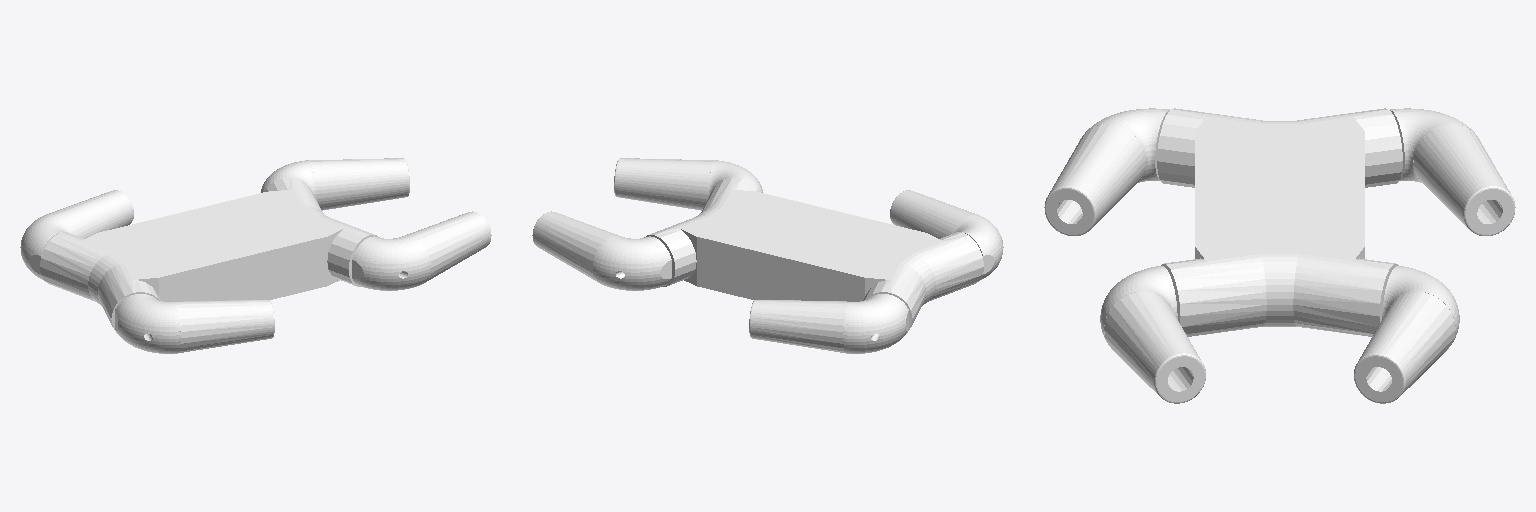
robot.urdf — 18_degree:
<?xml version="1.0" encoding="utf-8"?>
<!-- This URDF was automatically created by SolidWorks to URDF Exporter! Originally created by [author] ([email redacted]) 
     Commit Version: 1.5.1-0-g916b5db  Build Version: 1.5.7152.31018
     For more information, please see http://wiki.ros.org/sw_urdf_exporter -->
<robot
  name="18_degree">
  <link
    name="base_link">
    <inertial>
      <origin
        xyz="0 5.8328E-08 5.2042E-18"
        rpy="0 0 0" />
      <mass
        value="2.942" />
      <inertia
        ixx="0.0105036"
        ixy="9.3306E-19"
        ixz="-1.0078E-10"
        iyy="0.0439957"
        iyz="-1.0944E-17"
        izz="0.0518693" />
    </inertial>
    <visual>
      <origin
        xyz="0 0 0"
        rpy="0 0 0" />
      <geometry>
        <mesh
          filename="package://18_degree/meshes/base_link.STL" />
      </geometry>
      <material
        name="">
        <color
          rgba="1 1 1 1" />
      </material>
    </visual>
    <collision>
      <origin
        xyz="0 0 0"
        rpy="0 0 0" />
      <geometry>
        <mesh
          filename="package://18_degree/meshes/base_link.STL" />
      </geometry>
    </collision>
  </link>
  <link
    name="left_front_link">
    <inertial>
      <origin
        xyz="-1.0036E-07 0.056833 -0.03601"
        rpy="0 0 0" />
      <mass
        value="0.095" />
      <inertia
        ixx="0.0002672"
        ixy="7.2573E-10"
        ixz="7.3329E-10"
        iyy="0.0000540"
        iyz="2.33E-05"
        izz="0.0002642" />
    </inertial>
    <visual>
      <origin
        xyz="0 0 0"
        rpy="0 0 0" />
      <geometry>
        <mesh
          filename="package://18_degree/meshes/left_front_link.STL" />
      </geometry>
      <material
        name="">
        <color
          rgba="1 1 1 1" />
      </material>
    </visual>
    <collision>
      <origin
        xyz="0 0 0"
        rpy="0 0 0" />
      <geometry>
        <mesh
          filename="package://18_degree/meshes/left_front_link.STL" />
      </geometry>
    </collision>
  </link>
  <joint
    name="left_front_leg"
    type="continuous">
    <origin
      xyz="0.16183 0.097959 0"
      rpy="1.885 1.5708 0" />
    <parent
      link="base_link" />
    <child
      link="left_front_link" />
    <axis
      xyz="0 0 -1" />
    <limit
      effort="5"
      velocity="487" />
  </joint>
  <link
    name="right_front_link">
    <inertial>
      <origin
        xyz="1.0036E-07 0.056833 0.03601"
        rpy="0 0 0" />
      <mass
        value="0.095" />
      <inertia
        ixx="0.0002672"
        ixy="-7.2573E-10"
        ixz="7.3329E-10"
        iyy="0.0000540"
        iyz="-2.33E-05"
        izz="0.0002642" />
    </inertial>
    <visual>
      <origin
        xyz="0 0 0"
        rpy="0 0 0" />
      <geometry>
        <mesh
          filename="package://18_degree/meshes/right_front_link.STL" />
      </geometry>
      <material
        name="">
        <color
          rgba="1 1 1 1" />
      </material>
    </visual>
    <collision>
      <origin
        xyz="0 0 0"
        rpy="0 0 0" />
      <geometry>
        <mesh
          filename="package://18_degree/meshes/right_front_link.STL" />
      </geometry>
    </collision>
  </link>
  <joint
    name="right_front_leg"
    type="continuous">
    <origin
      xyz="0.16183 -0.097959 0"
      rpy="1.2566 1.5708 0" />
    <parent
      link="base_link" />
    <child
      link="right_front_link" />
    <axis
      xyz="0 0 1" />
    <limit
      effort="5"
      velocity="487" />
  </joint>
  <link
    name="right_back_link">
    <inertial>
      <origin
        xyz="7.08E-08 0.056834 0.03601"
        rpy="0 0 0" />
      <mass
        value="0.095" />
      <inertia
        ixx="0.0002672"
        ixy="-5.3496E-10"
        ixz="2.4137E-10"
        iyy="0.0000540"
        iyz="-2.33E-05"
        izz="0.0002642" />
    </inertial>
    <visual>
      <origin
        xyz="0 0 0"
        rpy="0 0 0" />
      <geometry>
        <mesh
          filename="package://18_degree/meshes/right_back_link.STL" />
      </geometry>
      <material
        name="">
        <color
          rgba="1 1 1 1" />
      </material>
    </visual>
    <collision>
      <origin
        xyz="0 0 0"
        rpy="0 0 0" />
      <geometry>
        <mesh
          filename="package://18_degree/meshes/right_back_link.STL" />
      </geometry>
    </collision>
  </link>
  <joint
    name="right_back_leg"
    type="continuous">
    <origin
      xyz="-0.16183 -0.097959 0"
      rpy="1.885 1.5708 0" />
    <parent
      link="base_link" />
    <child
      link="right_back_link" />
    <axis
      xyz="0 0 1" />
    <limit
      effort="5"
      velocity="487" />
  </joint>
  <link
    name="left_back_link">
    <inertial>
      <origin
        xyz="-7.08E-08 0.056834 -0.03601"
        rpy="0 0 0" />
      <mass
        value="0.095" />
      <inertia
        ixx="0.0002672"
        ixy="5.3496E-10"
        ixz="2.4137E-10"
        iyy="0.0000540"
        iyz="2.33E-05"
        izz="0.0002642" />
    </inertial>
    <visual>
      <origin
        xyz="0 0 0"
        rpy="0 0 0" />
      <geometry>
        <mesh
          filename="package://18_degree/meshes/left_back_link.STL" />
      </geometry>
      <material
        name="">
        <color
          rgba="1 1 1 1" />
      </material>
    </visual>
    <collision>
      <origin
        xyz="0 0 0"
        rpy="0 0 0" />
      <geometry>
        <mesh
          filename="package://18_degree/meshes/left_back_link.STL" />
      </geometry>
    </collision>
  </link>
  <joint
    name="left_back_leg"
    type="continuous">
    <origin
      xyz="-0.16183 0.097959 0"
      rpy="1.2566 1.5708 0" />
    <parent
      link="base_link" />
    <child
      link="left_back_link" />
    <axis
      xyz="0 0 -1" />
    <limit
      effort="5"
      velocity="487" />
  </joint>
</robot>

--- What the picture shows (computed from the rendered views, not written in the file) ---
The picture shows the robot from 3 angles, left to right: view 1: azimuth 30°, elevation 25°; view 2: azimuth 150°, elevation 25°; view 3: azimuth 270°, elevation 25°; orthographic projection.
Robot: 18_degree — 5 links, 4 joints (4 continuous); root link base_link; default pose: all joints at 0.
Visible links, largest first — view 1: base_link, right_back_link, right_front_link, left_front_link, left_back_link; view 2: base_link, left_back_link, left_front_link, right_front_link, right_back_link; view 3: base_link, right_back_link, left_back_link, left_front_link, right_front_link.
Link boxes in pixels (x1,y1,x2,y2): base_link: (40, 178, 379, 333); right_back_link: (115, 294, 274, 353); right_front_link: (352, 211, 491, 290); left_front_link: (261, 158, 409, 210); left_back_link: (20, 190, 133, 279); base_link: (644, 178, 983, 333); left_back_link: (749, 294, 908, 353); left_front_link: (532, 211, 671, 290); right_front_link: (614, 158, 762, 210); right_back_link: (890, 190, 1003, 279); base_link: (1157, 108, 1402, 336); right_back_link: (1044, 108, 1169, 235); left_back_link: (1390, 108, 1515, 235); left_front_link: (1354, 266, 1459, 403); right_front_link: (1100, 266, 1205, 403).
Bounding box of the posed robot: 0.5278 × 0.4148 × 0.0672 m (x, y, z).
Meshes: 5 distinct files referenced, 5 mesh visuals loaded (5 binary STL).